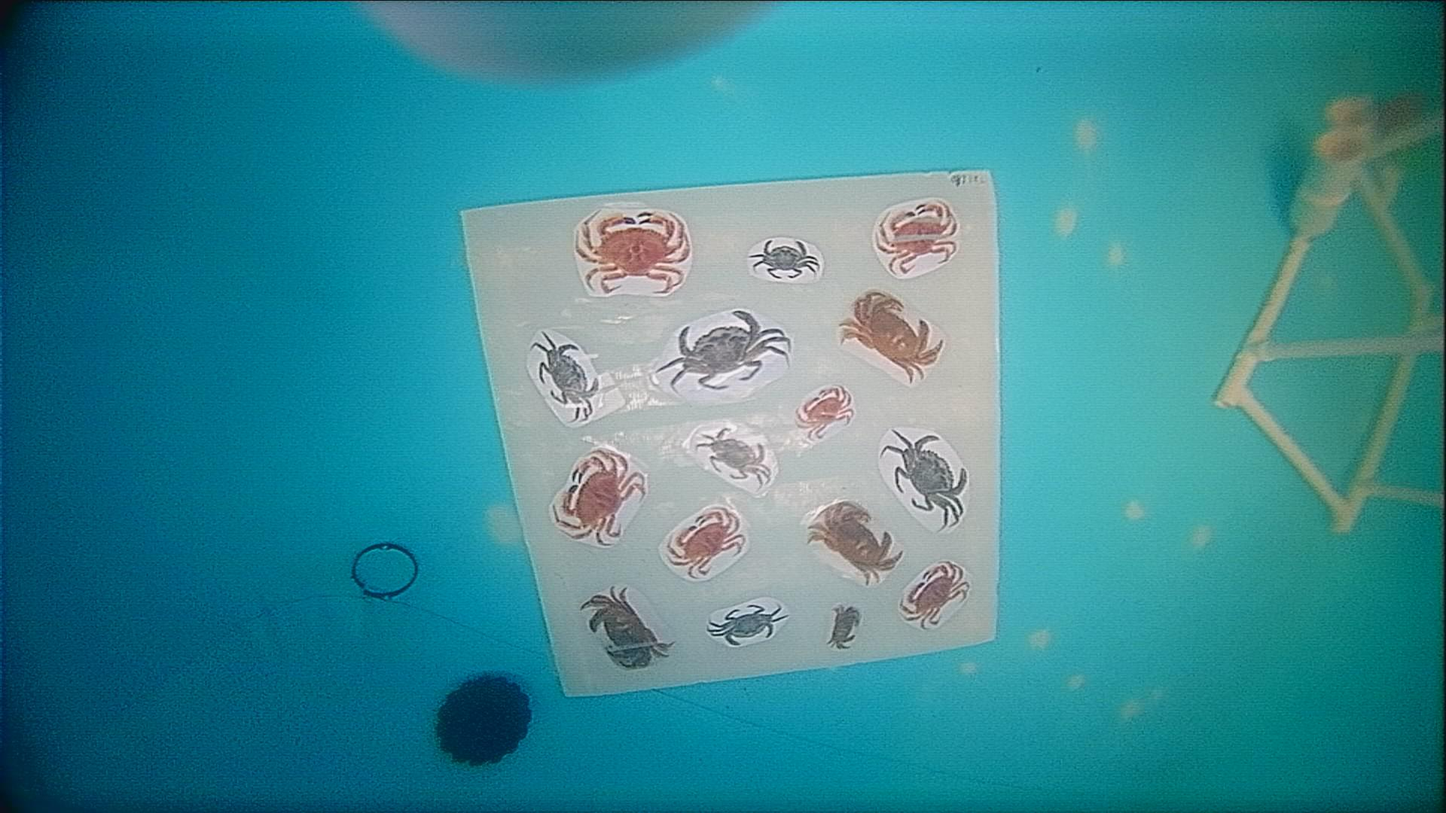GreenCrab: (660, 310, 791, 391), (883, 430, 966, 530), (533, 332, 598, 420), (709, 604, 787, 645), (749, 239, 816, 278)
